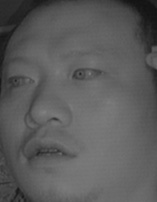eye: (71, 63, 105, 85), (5, 70, 37, 91)
mouth: (20, 132, 80, 173)
